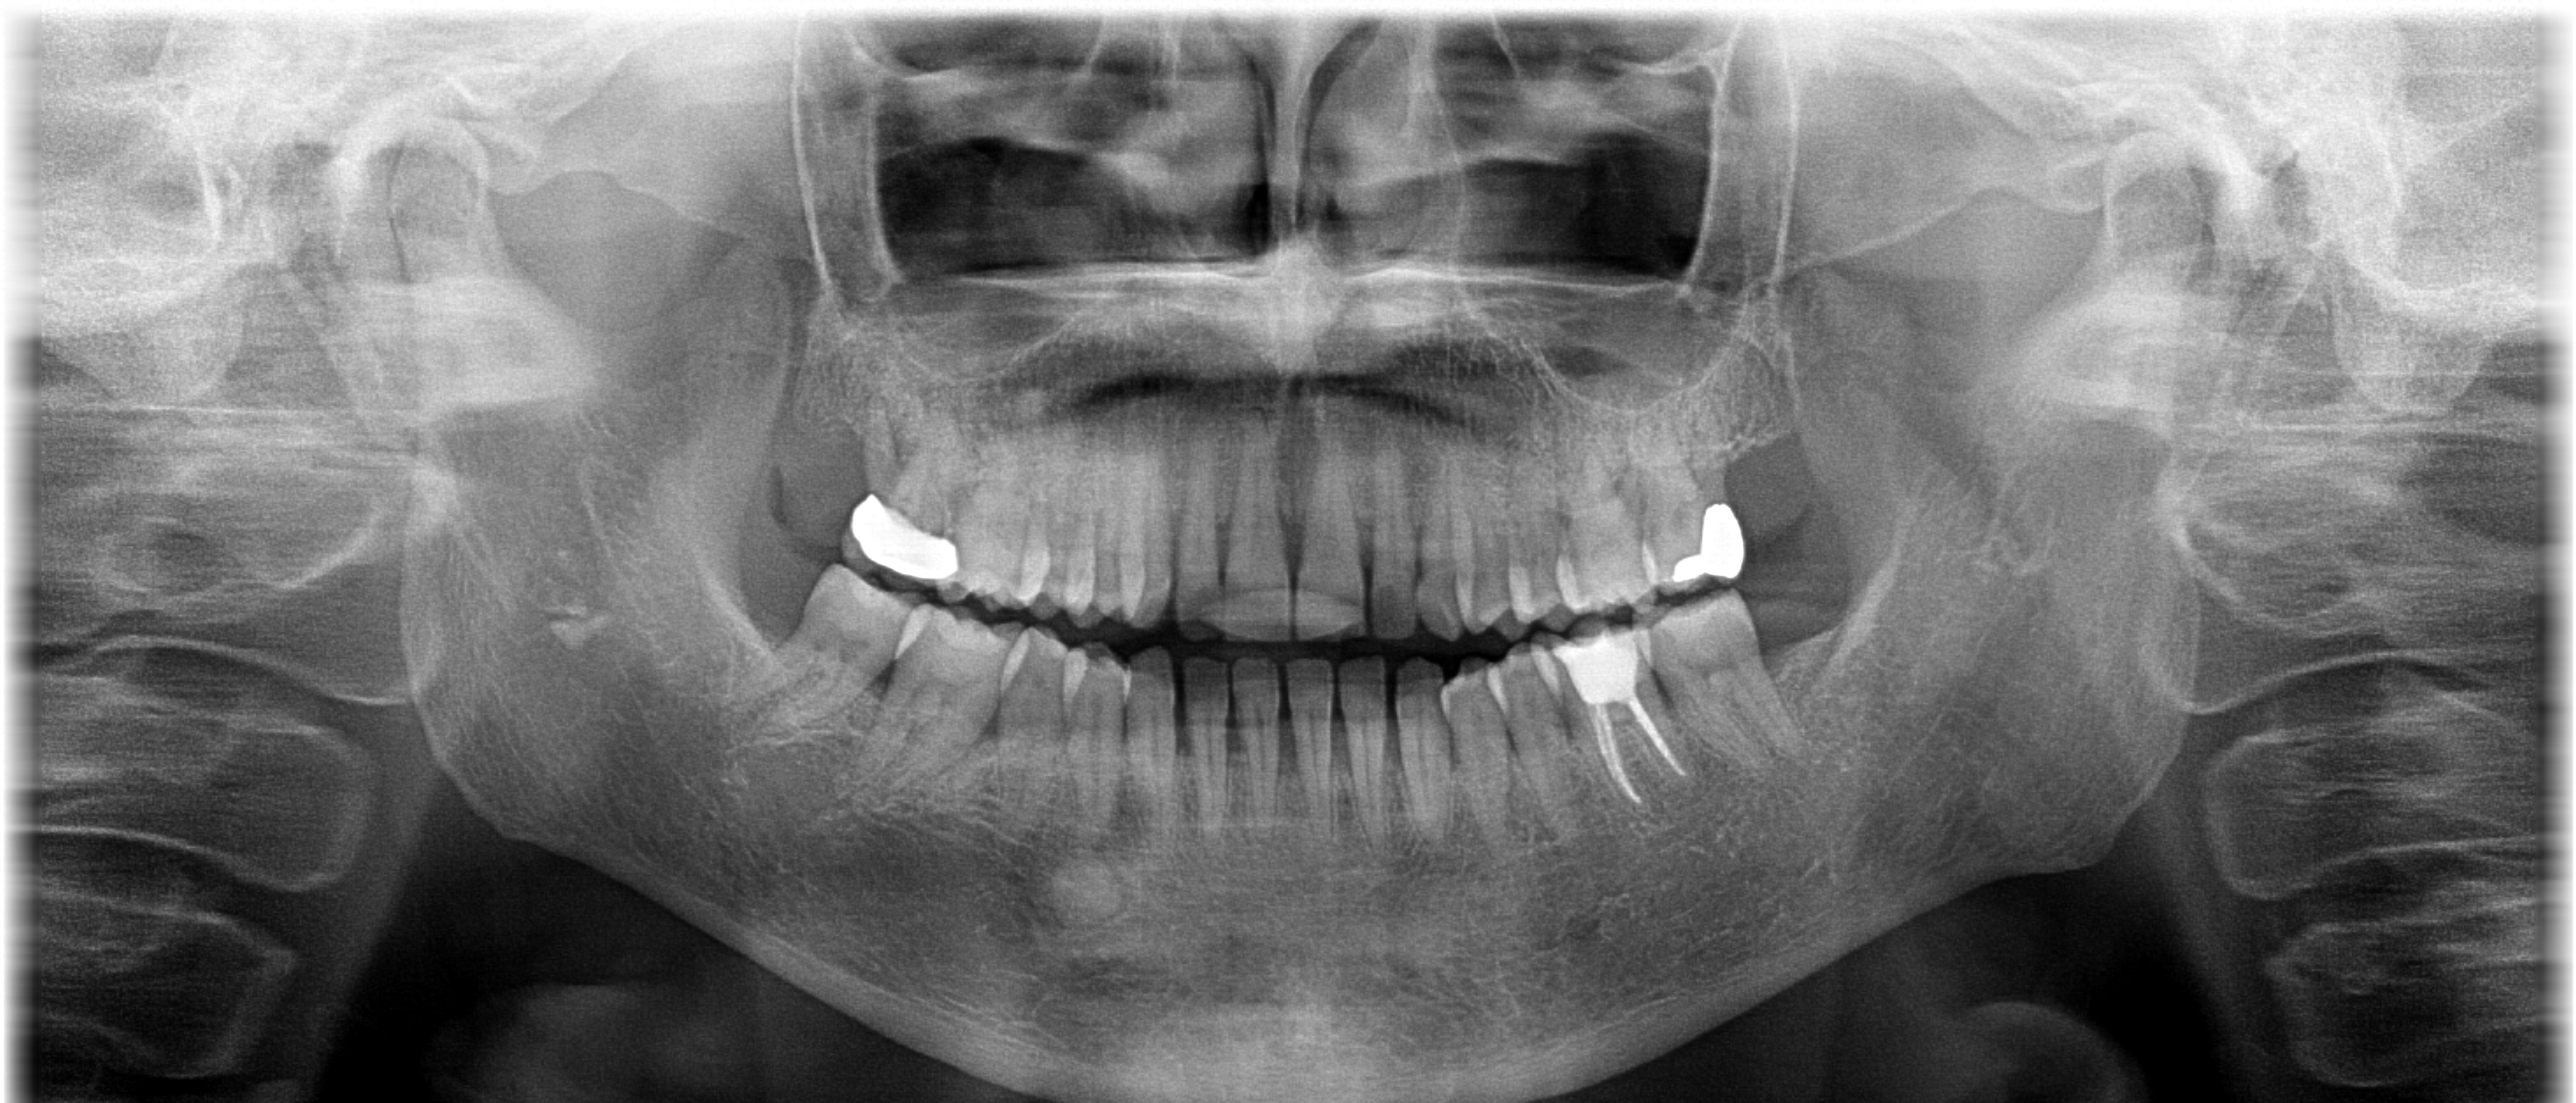tratamiento_conducto: (1526, 619, 1695, 829)
